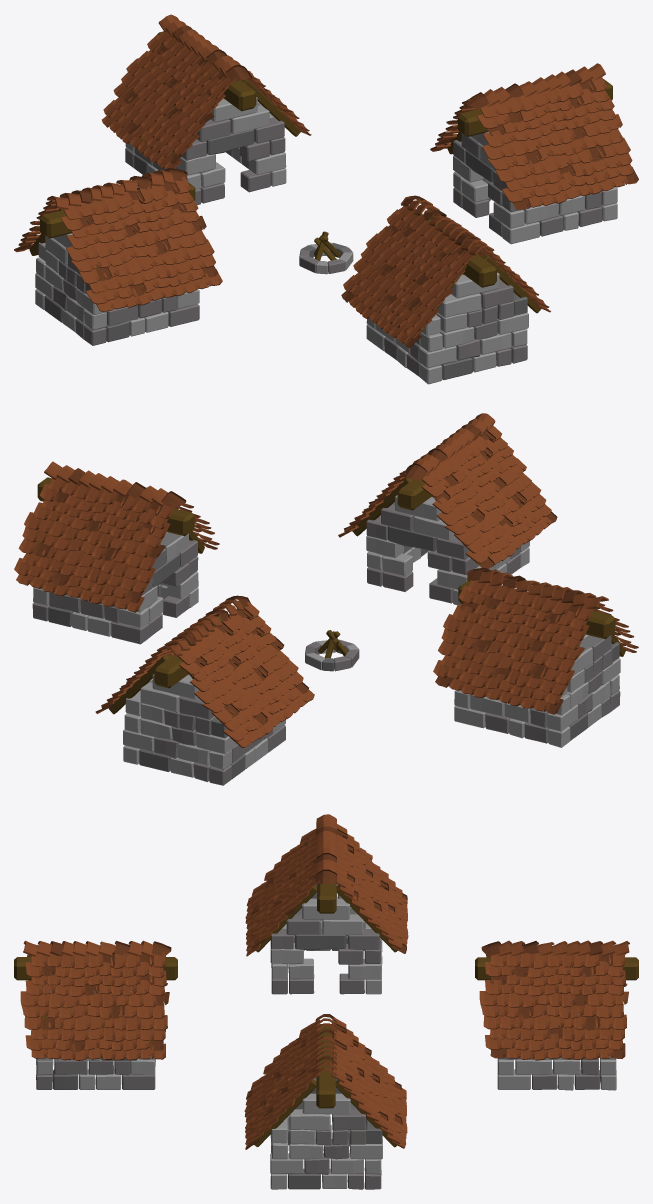
Rendered from VillageCenter_v2.fbx.
The picture shows the model from 3 angles, top to bottom: view 1: azimuth 30°, elevation 25°; view 2: azimuth 150°, elevation 25°; view 3: azimuth 270°, elevation 25°; orthographic projection. The views are drawn at different scales.
Visible parts, largest first — view 1: Haus; view 2: Haus; view 3: Haus.
Part boxes in pixels (<box>): Haus: <box>14,14,638,384</box>; Haus: <box>14,413,638,785</box>; Haus: <box>14,814,638,1189</box>.
Bounding box in the file's own units: 7683 × 1708 × 7682.
